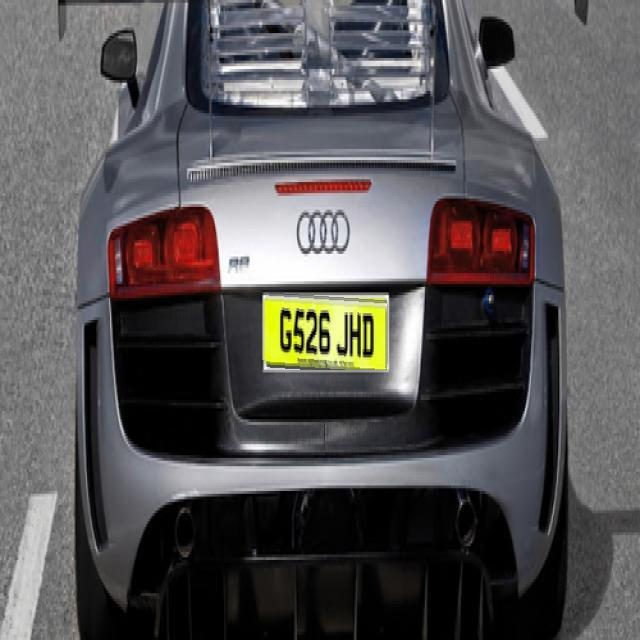licence: (261, 292, 387, 370)
